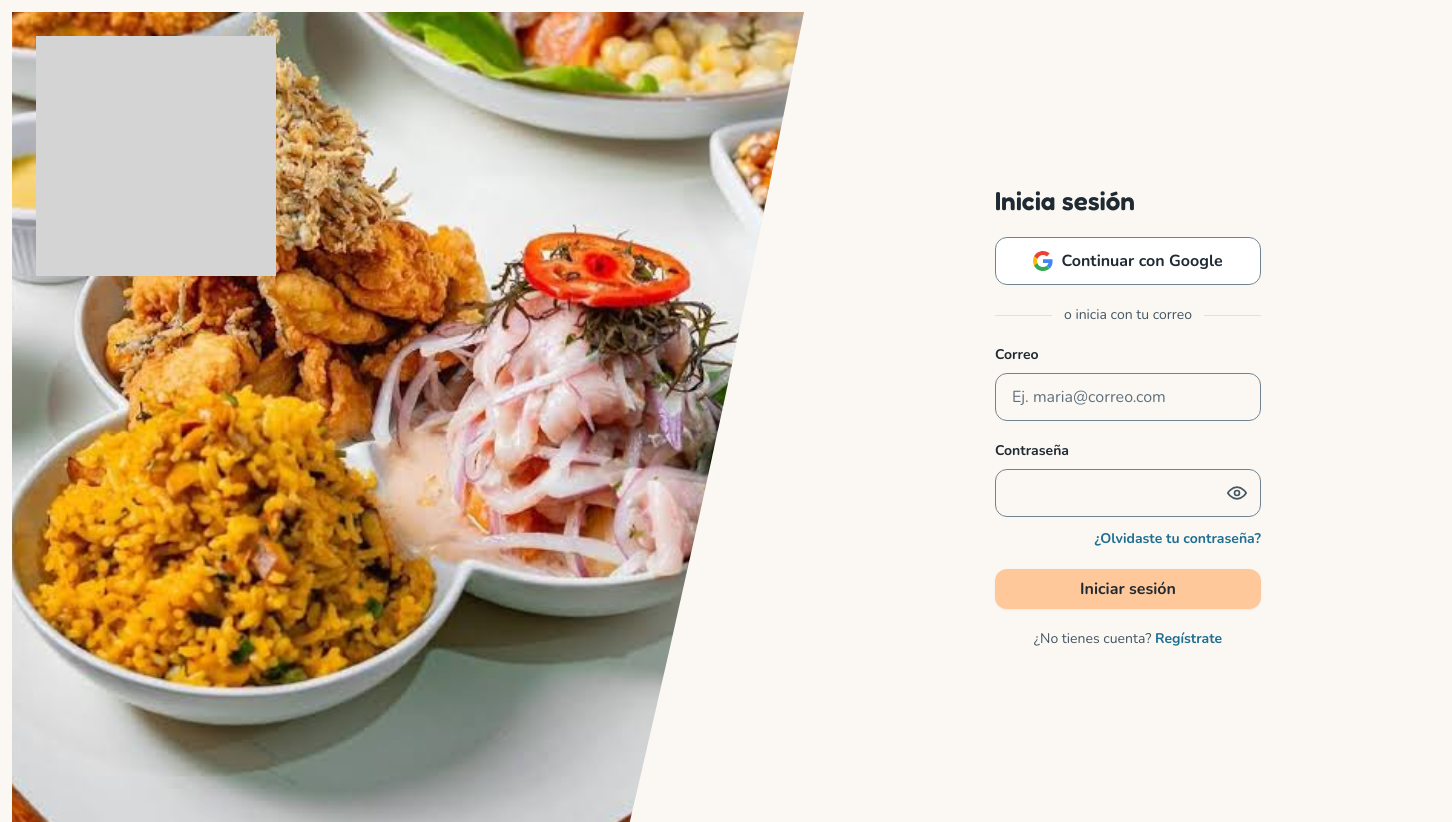
Test case: LoginPage › rechaza un correo con formato inválido
In the field labelled "Correo": (1128, 397) [995,373,1261,421], type "no-es-un-correo"
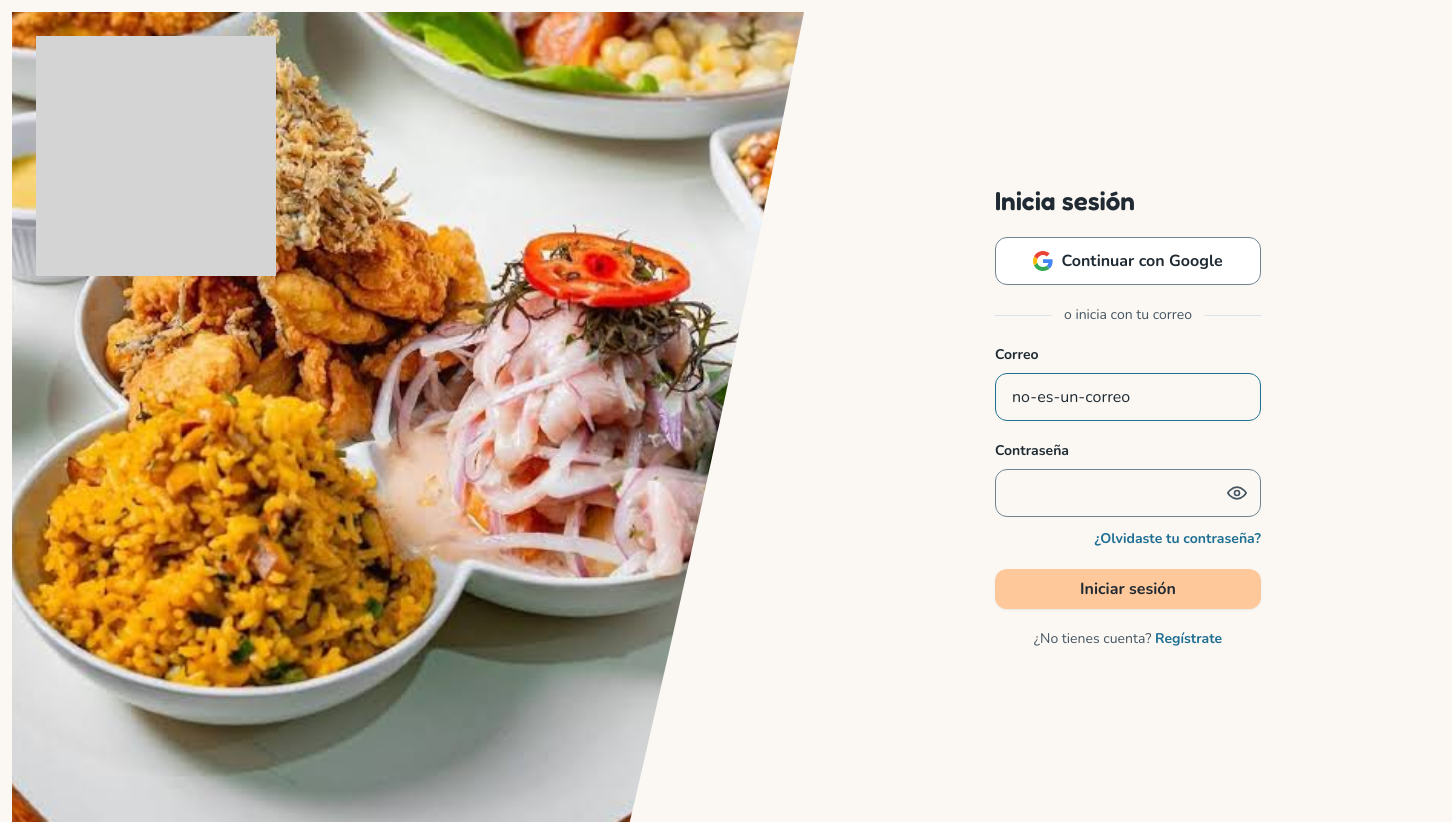
In the password field labelled "Contraseña": (1128, 493) [995,469,1261,517], type "cualquier-cosa"
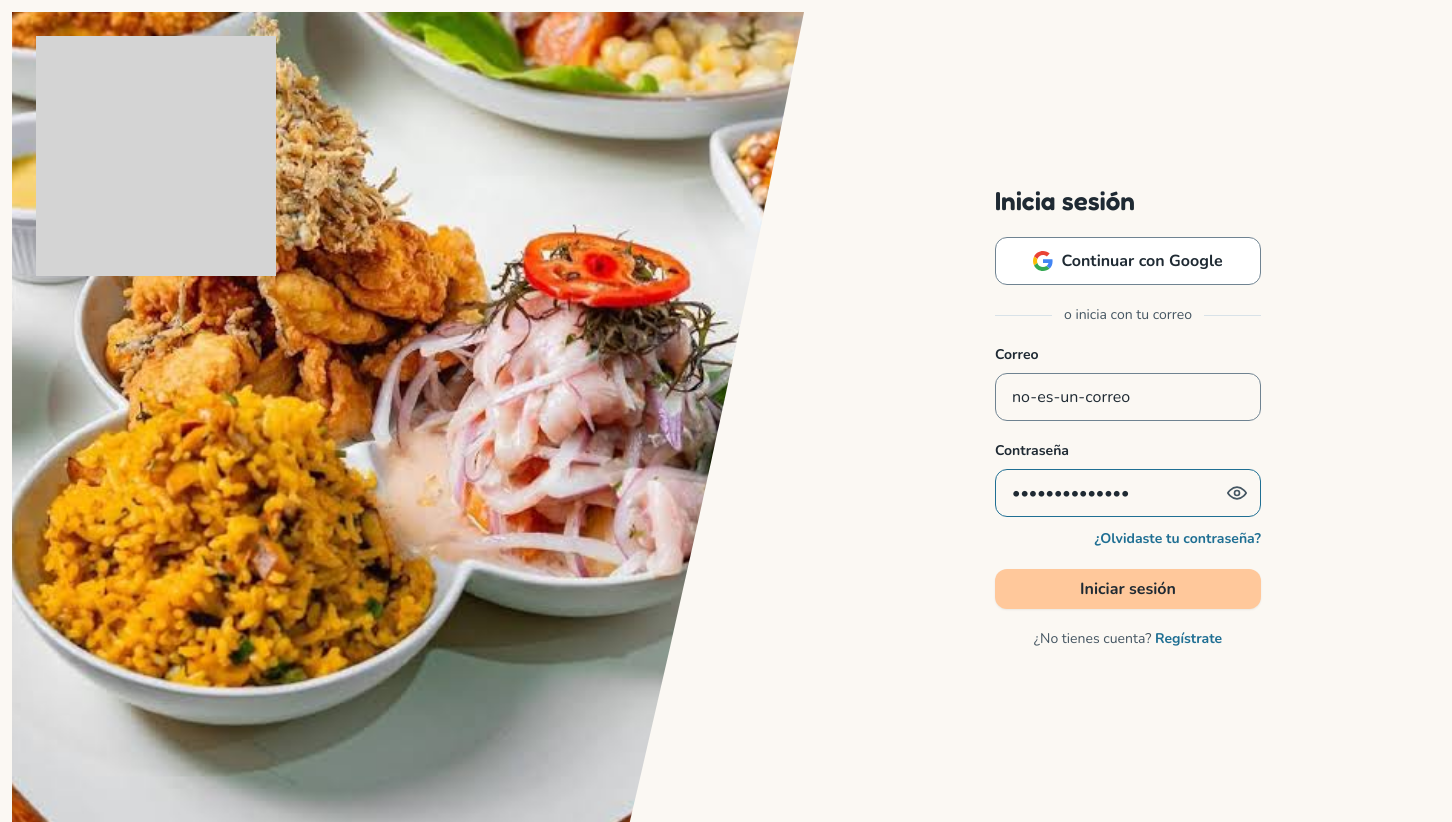
Click the button "Iniciar sesión": (1128, 589) [995,569,1261,609]
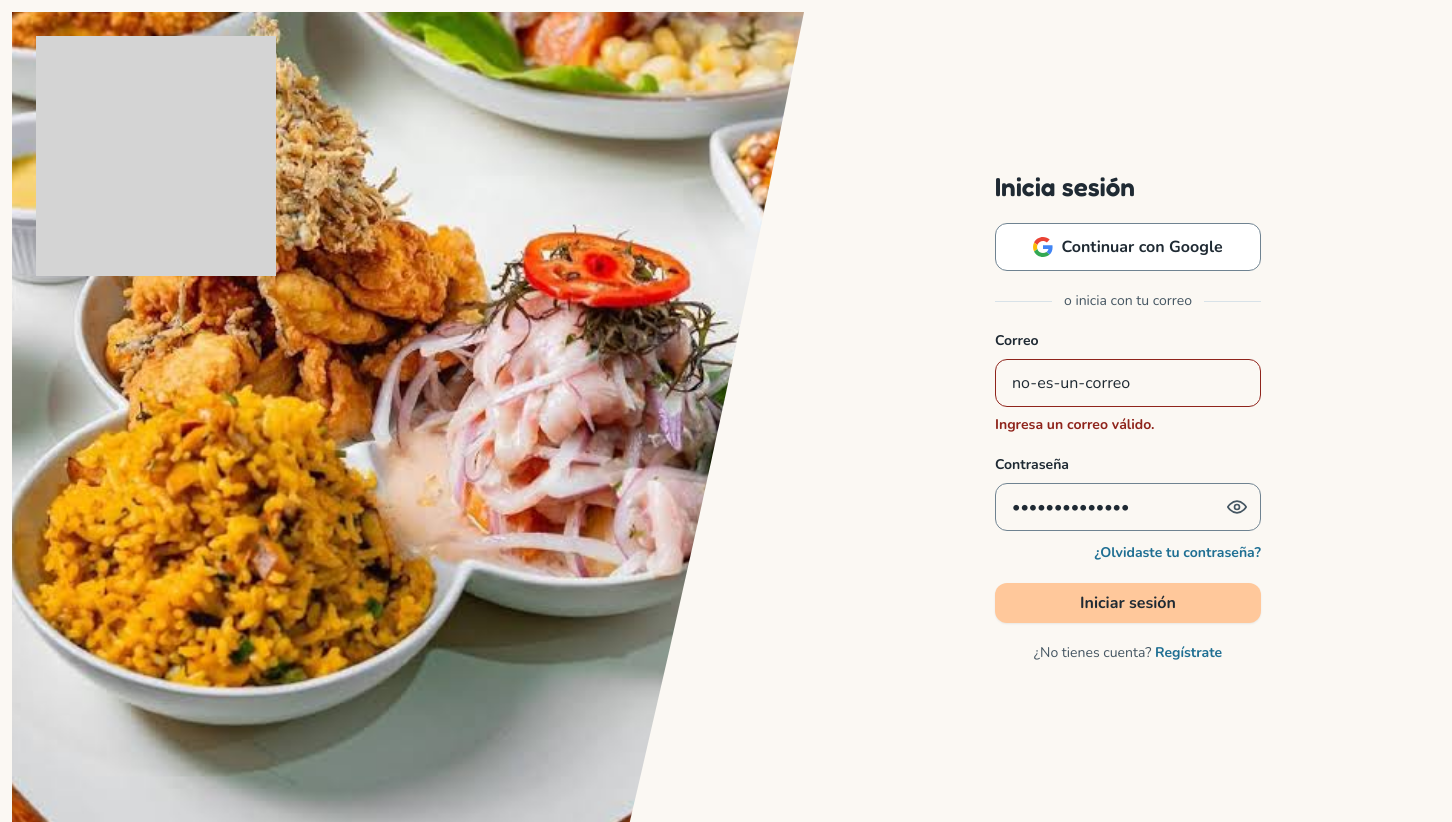
Expected: the text "Ingresa un correo válido." is shown, [995,415,1154,434]
